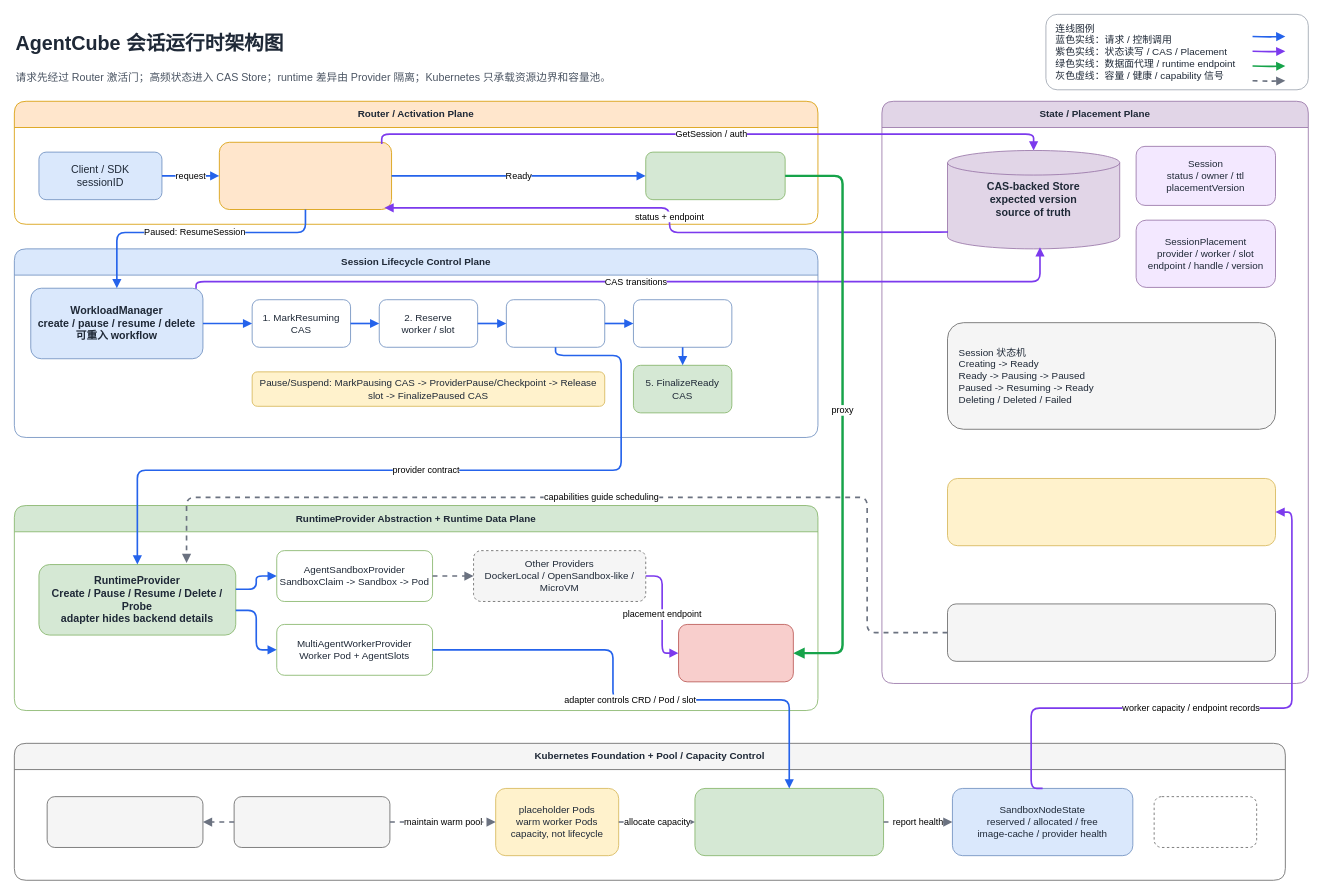
This 1323x895 diagram has some shape labels left out. The shapes that lost their labels are listed below. From the top down, each one's centre as x and y in pixels, then its label:
(305,175): AgentCube Router owner/auth resume-before-proxy
(715,175): Ready 路径 proxy refreshed endpoint
(555,323): 3. Provider resume / create
(682,323): 4. Probe endpoint
(1111,512): Placement cache / watch session -> worker -> slot 加速热路径，不替代 Store
(1111,632): RuntimeCapabilities preservation L0-L4 isolation / snapshot / assets
(735,653): Runtime endpoint workspace / tool server / agent process
(124,821): SandboxWorkspace namespace / quota / policy
(311,821): WorkspaceController ReservationManager
(789,822): Worker Pod / AgentSlot per-slot workspace / credential / port / quota
(1205,821): 低频期望状态走 CRD / Kubernetes；高频 Session 与 Placement 状态走 Store。
